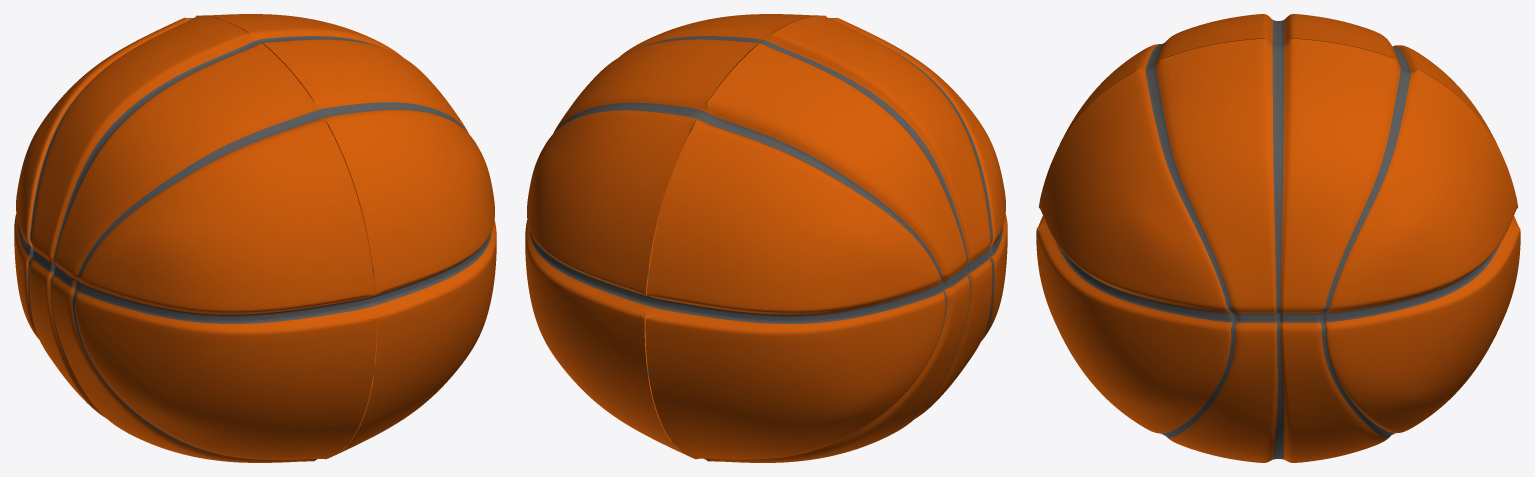
The model's file is Basketball.fbx.
The picture shows the model from 3 angles, left to right: view 1: azimuth 30°, elevation 25°; view 2: azimuth 150°, elevation 25°; view 3: azimuth 270°, elevation 25°; orthographic projection.
Visible parts, largest first — view 1: Basketball; view 2: Basketball; view 3: Basketball.
Part boxes in pixels (bbox=[...]): Basketball: bbox=[14, 14, 496, 462]; Basketball: bbox=[525, 14, 1007, 462]; Basketball: bbox=[1036, 14, 1520, 462].
Size of the model in its own units: 3.07 by 2.85 by 3.13.
